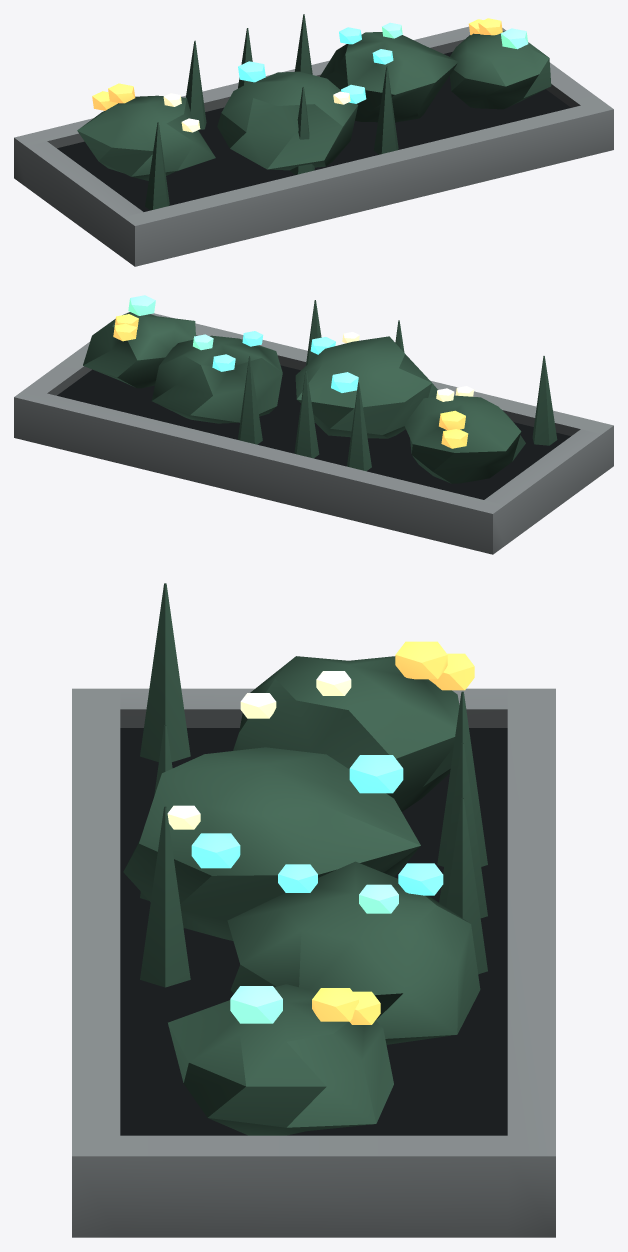
File: flower-bed.lod1.glb
3 renders of one model, top to bottom at view 1: azimuth 30°, elevation 25°; view 2: azimuth 150°, elevation 25°; view 3: azimuth 270°, elevation 25°, orthographic. The views are drawn at different scales.
Parts seen in each view (by area): view 1: structure; view 2: structure; view 3: structure.
Part boxes in pixels (x1,y1,x2,y2): structure: [14, 14, 613, 266]; structure: [14, 295, 613, 554]; structure: [72, 583, 555, 1237].
Bounding box in the file's own units: 3.2 × 0.7401 × 1.4.
